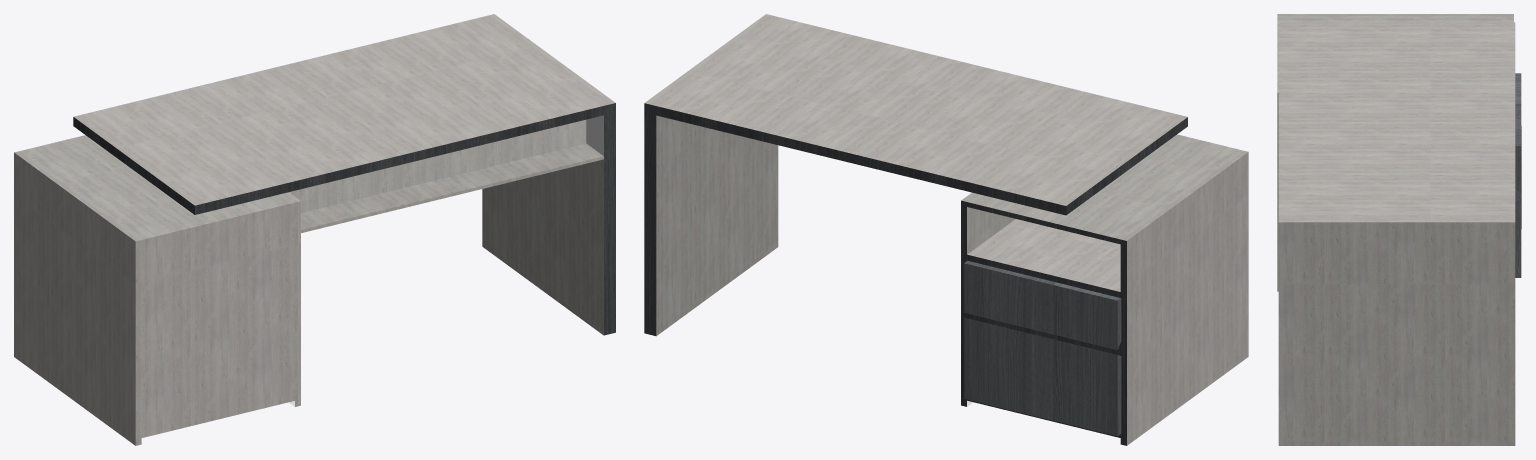
Rendered from deskfinal.glb.
The picture shows the model from 3 angles, left to right: view 1: azimuth 30°, elevation 25°; view 2: azimuth 150°, elevation 25°; view 3: azimuth 270°, elevation 25°; orthographic projection. The views are drawn at different scales.
Visible parts, largest first — view 1: Root Node; view 2: Root Node; view 3: Root Node.
Part boxes in pixels (x1,y1,x2,y2): Root Node: [14, 14, 615, 445]; Root Node: [644, 14, 1248, 445]; Root Node: [1277, 14, 1521, 445].
Bounding box in the file's own units: 1.6 × 0.73 × 0.7225.
Materials: 115 (40 with a texture image).
